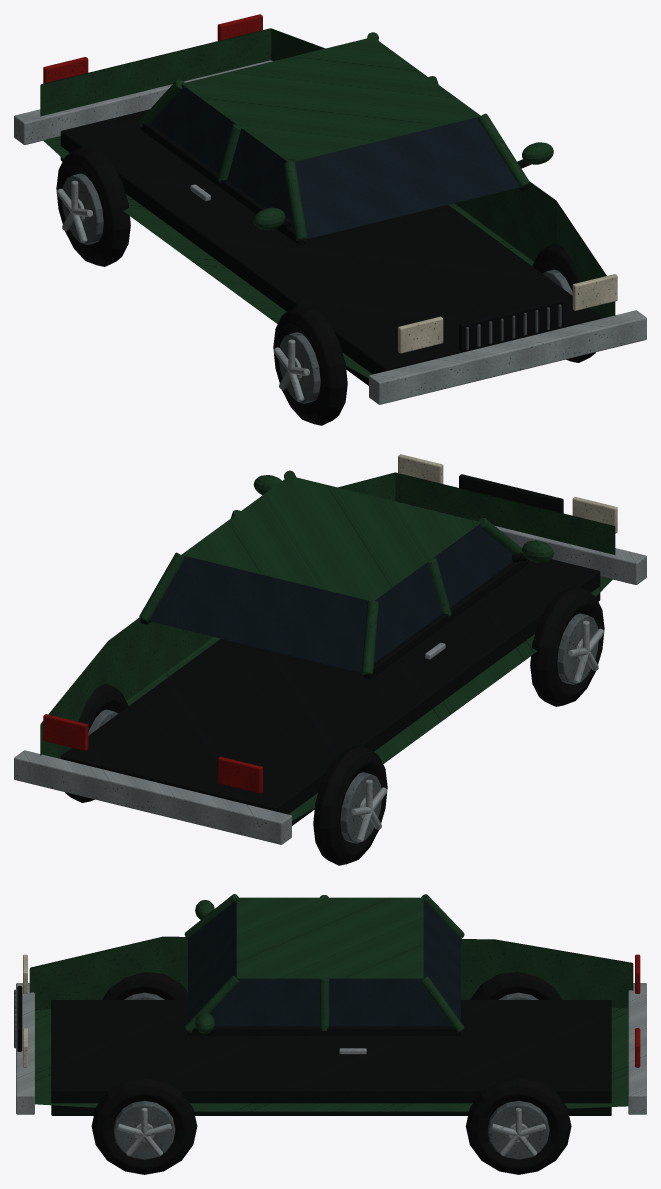
Rendered from PROP-CF223D3C1500_lod0.glb.
3 views of the same model, one above another, from view 1: azimuth 30°, elevation 25°; view 2: azimuth 150°, elevation 25°; view 3: azimuth 270°, elevation 25° (orthographic). The views are drawn at different scales.
Visible parts, largest first — view 1: chassis.022, sloped_cabin_glazing.022, roof_panel.020, shaped_body_panels.022, bumper.022, tire.022, rim.022, window_pillars.022, radiator_grille.022, lamp_lenses.044, window_belt.022, rim_spokes.022 (+3 smaller); view 2: chassis.022, sloped_cabin_glazing.022, roof_panel.020, shaped_body_panels.022, bumper.022, tire.022, rim.022, window_pillars.022, lamp_lenses.045, window_belt.022, lamp_lenses.044, rim_spokes.022 (+2 smaller); view 3: chassis.022, shaped_body_panels.022, sloped_cabin_glazing.022, roof_panel.020, tire.022, rim.022, bumper.022, window_pillars.022, window_belt.022, rim_spokes.022, mirror.022, lamp_lenses.045.
Part boxes in pixels (x1,y1,x2,y2): chassis.022: (60,109,600,385); sloped_cabin_glazing.022: (150,84,519,238); roof_panel.020: (181,37,480,161); shaped_body_panels.022: (40,28,615,378); bumper.022: (14,60,646,404); tire.022: (56,147,595,425); rim.022: (62,173,572,403); window_pillars.022: (139,32,529,240); radiator_grille.022: (459,299,563,351); lamp_lenses.044: (398,274,617,353); window_belt.022: (140,123,528,244); rim_spokes.022: (56,180,309,401); chassis.022: (60,559,600,825); sloped_cabin_glazing.022: (149,523,512,672); roof_panel.020: (181,475,481,600); shaped_body_panels.022: (40,472,615,820); bumper.022: (14,526,646,844); tire.022: (65,587,604,865); rim.022: (88,613,598,843); window_pillars.022: (139,470,528,674); lamp_lenses.045: (43,714,262,793); window_belt.022: (140,560,528,678); lamp_lenses.044: (398,454,617,533); rim_spokes.022: (351,620,604,841); chassis.022: (51,1000,611,1115); shaped_body_panels.022: (29,936,633,1111); sloped_cabin_glazing.022: (188,899,460,1026); roof_panel.020: (236,897,423,978); tire.022: (91,972,571,1174); rim.022: (113,992,549,1159); bumper.022: (16,983,646,1114); window_pillars.022: (184,894,464,1033); window_belt.022: (188,1026,460,1035); rim_spokes.022: (117,1107,545,1156); mirror.022: (195,900,214,1033); lamp_lenses.045: (635,954,640,1067).
Size of the model in its own units: 2.09 by 1.42 by 4.41.
8 materials, 8 textured.
